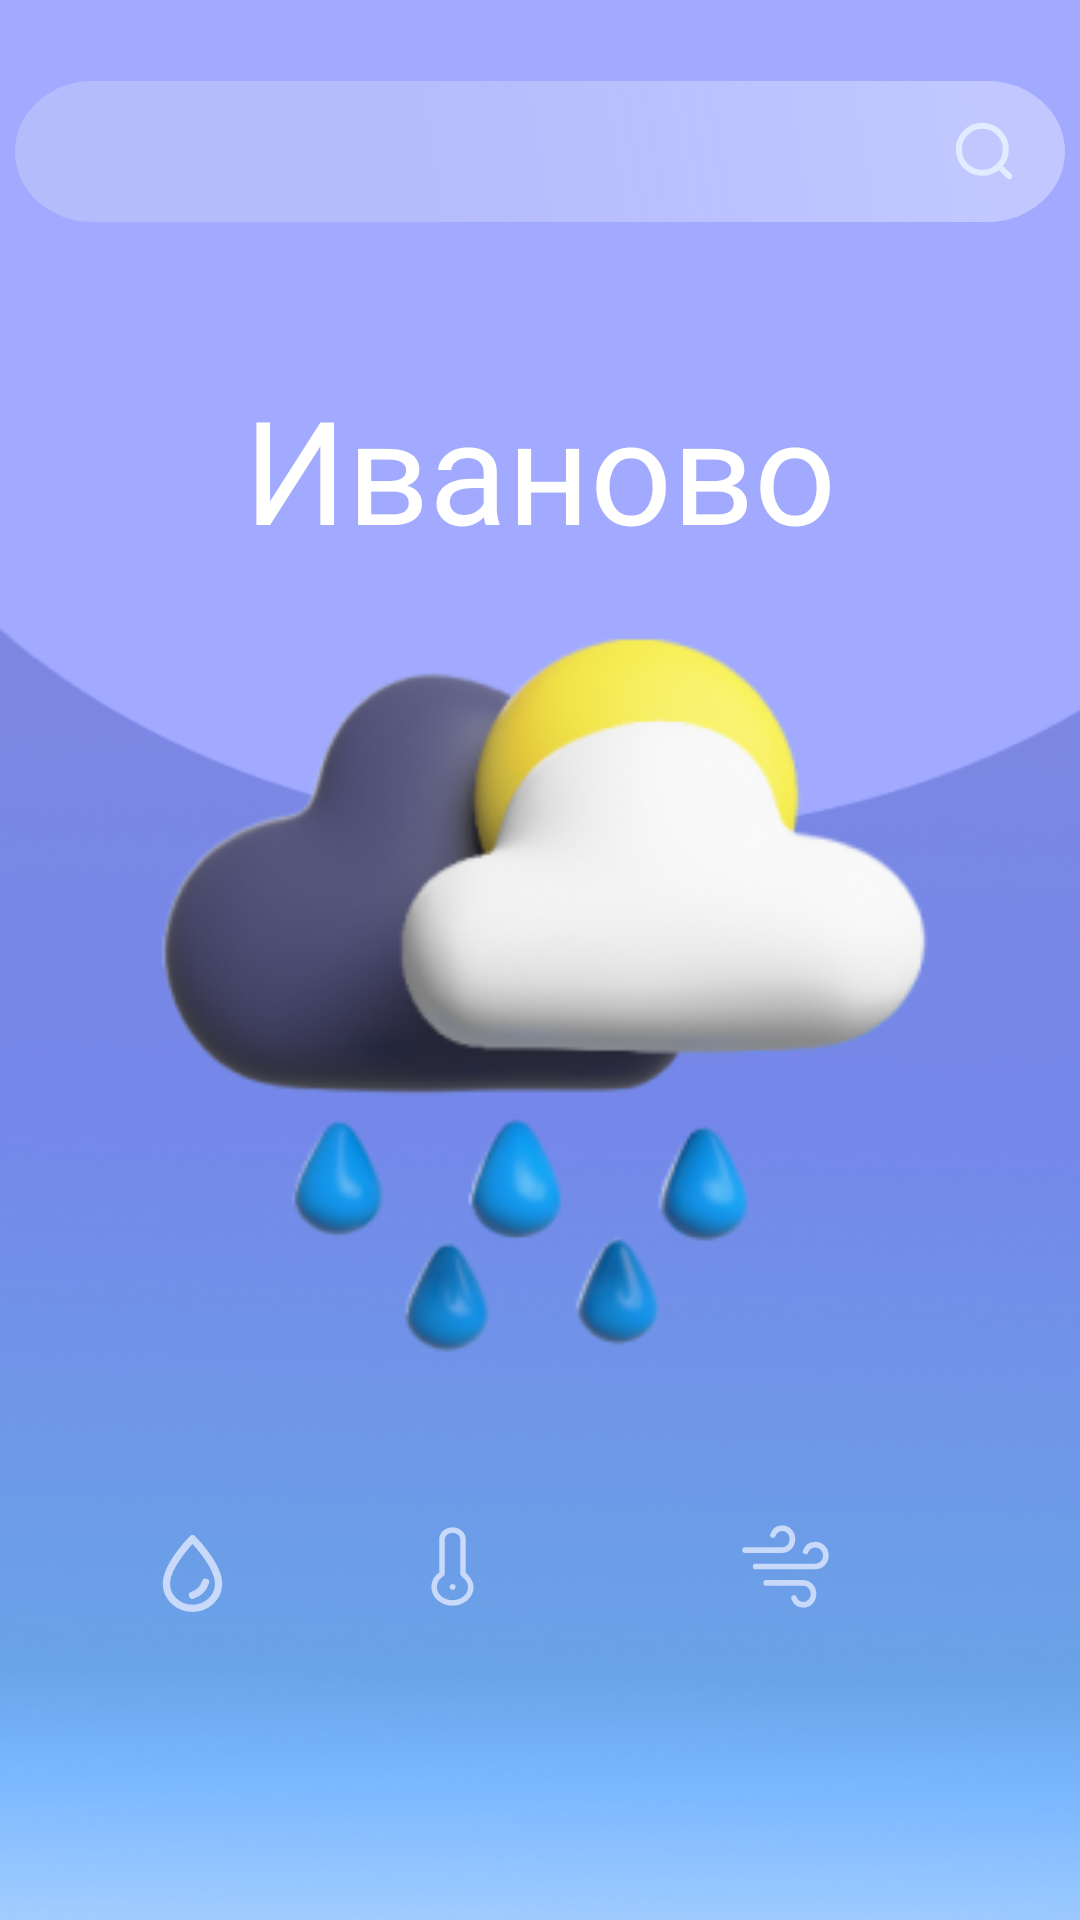

Screen size 1080x1920. Icon name, then its center in pixels as [x,y]:
humidity: [192,1573]
temperature: [452,1566]
wind: [785,1566]
